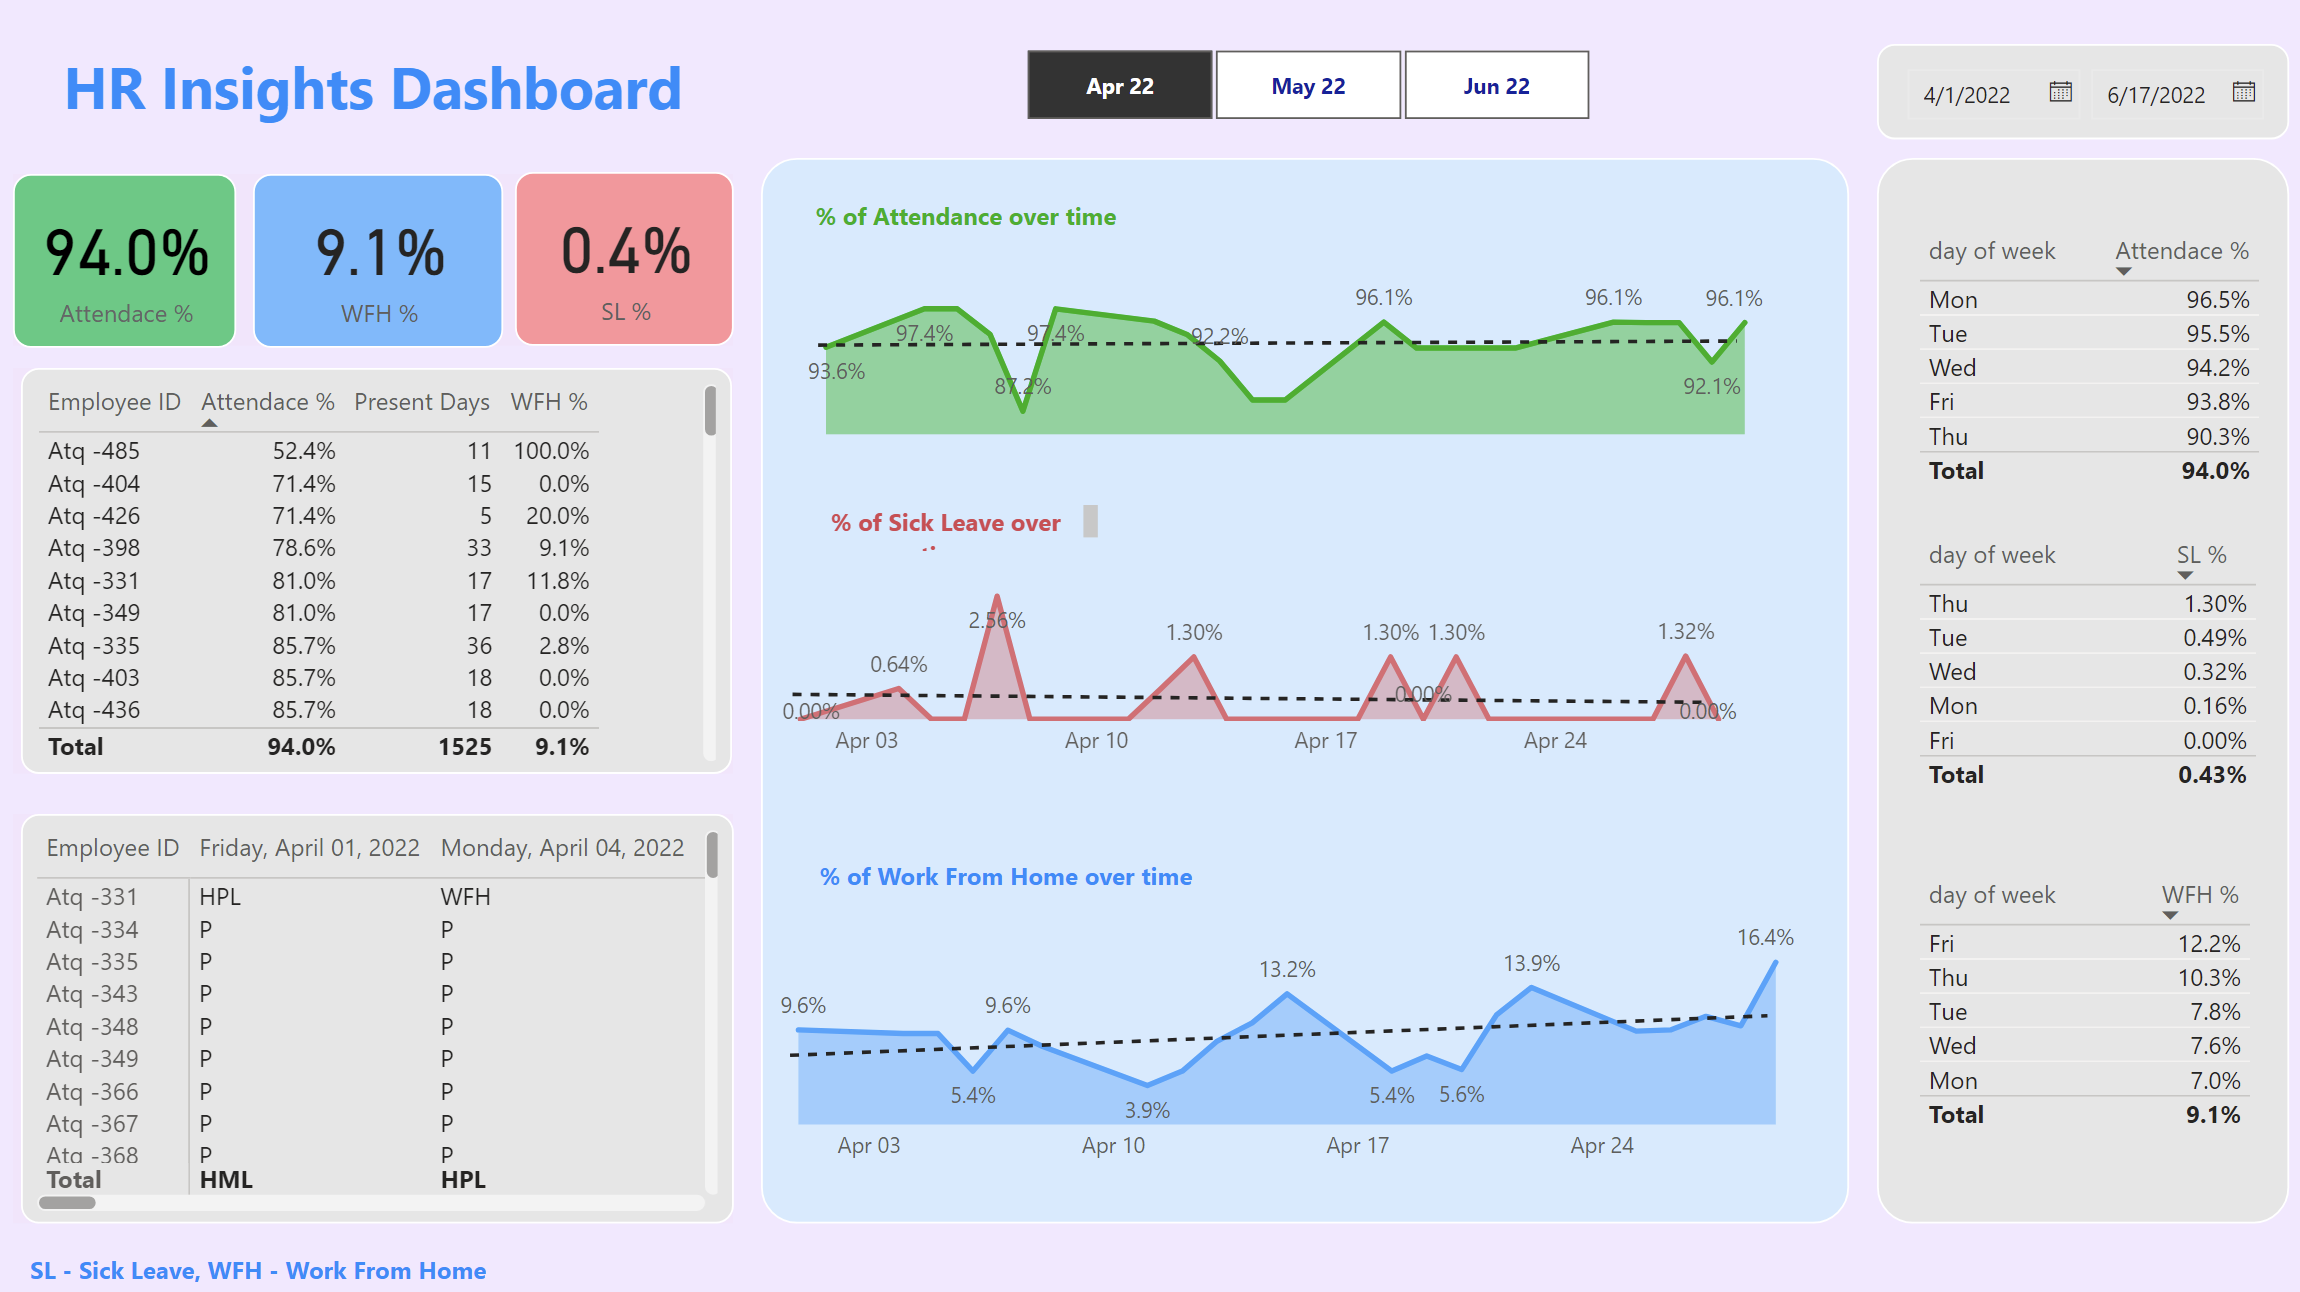

Layout of this report page (visuals, bound fields, positions):
{"tool":"powerbi","page":{"name":"Presence Insights","canvas":[1280,720],"ordinal":0},"visuals":[{"type":"textbox","box":[7.8,205.6,399.9,225.5],"z":0},{"type":"textbox","box":[7.8,453.3,399.8,227.6],"z":1000},{"type":"textbox","box":[423.3,88.9,604.4,592.2],"z":2000},{"type":"textbox","box":[7.8,98,399.9,95.4],"z":3000},{"type":"tableEx","fields":{"Values":["Final Data.Employee ID","Measures (2).Attendace %","Measures (2).Present Days","Measures (2).WFH %"]},"box":[12.6,205.2,394.9,225.7],"z":4000},{"type":"slicer","fields":{"Values":["Final Data.Date"]},"box":[1043,26,229,53],"z":5000},{"type":"slicer","fields":{"Values":["Final Data.MMM YY"]},"box":[545,22,362,52],"z":6000},{"type":"areaChart","fields":{"Category":["Final Data.MMM YY","Final Data.Date"],"Y":["Measures (2).WFH %"]},"box":[420.7,502.3,589,153.5],"z":7000},{"type":"areaChart","fields":{"Category":["Final Data.WeekNo","Final Data.Date"],"Y":["Measures (2).Attendace %"]},"box":[444.1,144.9,540.4,103.2],"z":8000},{"type":"card","fields":{"Values":["Measures (2).Attendace %"]},"box":[7.8,98,124,96.3],"z":9000},{"type":"card","fields":{"Values":["Measures (2).WFH %"]},"box":[141.4,98,138.8,96.3],"z":10000},{"type":"areaChart","fields":{"Category":["Final Data.MMM YY","Final Data.Date"],"Y":["Measures (2).SL %"]},"box":[422.5,307.1,556,124],"z":11000},{"type":"card","fields":{"Values":["Measures (2).SL %"]},"box":[286.3,97.2,121.4,96.3],"z":12000},{"type":"textbox","box":[7.8,22.2,400,55.6],"z":13000},{"type":"textbox","box":[444.4,106.7,185.6,30],"z":14000},{"type":"textbox","box":[444.4,276.7,171.1,35.6],"z":15000},{"type":"textbox","box":[444.4,473.3,230,27.8],"z":16000},{"type":"pivotTable","fields":{"Rows":["Final Data.Employee ID"],"Columns":["Final Data.Date"],"Values":["Min(Final Data.Value)"]},"box":[11.7,453.3,395.9,227.6],"z":17000},{"type":"textbox","box":[12.2,692.2,285.6,27.8],"z":18000},{"type":"textbox","box":[1043,89,229,592],"z":18500},{"type":"tableEx","fields":{"Values":["Final Data.day of week","Measures (2).Attendace %"]},"box":[1061.1,125.6,200,161.1],"z":19000},{"type":"tableEx","fields":{"Values":["Final Data.day of week","Measures (2).SL %"]},"box":[1061.1,294.4,200,166.7],"z":20000},{"type":"tableEx","fields":{"Values":["Final Data.day of week","Measures (2).WFH %"]},"box":[1061.1,483.3,200,167.8],"z":21000}]}

Visuals, with their boxes in screenshot pixels (x1, y1, x2, y2), scaled from the page's 1280x720 canvas onto the 2300x1292 screenshot:
textbox: {"x1": 14, "y1": 369, "x2": 733, "y2": 774}
textbox: {"x1": 14, "y1": 813, "x2": 732, "y2": 1222}
textbox: {"x1": 761, "y1": 160, "x2": 1847, "y2": 1222}
textbox: {"x1": 14, "y1": 176, "x2": 733, "y2": 347}
tableEx - Final Data.Employee ID x Measures (2).Attendace %: {"x1": 23, "y1": 368, "x2": 732, "y2": 773}
slicer - Final Data.Date: {"x1": 1874, "y1": 47, "x2": 2286, "y2": 142}
slicer - Final Data.MMM YY: {"x1": 979, "y1": 39, "x2": 1630, "y2": 133}
areaChart - Final Data.MMM YY x Final Data.Date: {"x1": 756, "y1": 901, "x2": 1814, "y2": 1177}
areaChart - Final Data.WeekNo x Final Data.Date: {"x1": 798, "y1": 260, "x2": 1769, "y2": 445}
card - Measures (2).Attendace %: {"x1": 14, "y1": 176, "x2": 237, "y2": 349}
card - Measures (2).WFH %: {"x1": 254, "y1": 176, "x2": 503, "y2": 349}
areaChart - Final Data.MMM YY x Final Data.Date: {"x1": 759, "y1": 551, "x2": 1758, "y2": 774}
card - Measures (2).SL %: {"x1": 514, "y1": 174, "x2": 733, "y2": 347}
textbox: {"x1": 14, "y1": 40, "x2": 733, "y2": 140}
textbox: {"x1": 799, "y1": 191, "x2": 1132, "y2": 245}
textbox: {"x1": 799, "y1": 497, "x2": 1106, "y2": 560}
textbox: {"x1": 799, "y1": 849, "x2": 1212, "y2": 899}
pivotTable - Final Data.Employee ID x Final Data.Date: {"x1": 21, "y1": 813, "x2": 732, "y2": 1222}
textbox: {"x1": 22, "y1": 1242, "x2": 535, "y2": 1291}
textbox: {"x1": 1874, "y1": 160, "x2": 2286, "y2": 1222}
tableEx - Final Data.day of week x Measures (2).Attendace %: {"x1": 1907, "y1": 225, "x2": 2266, "y2": 514}
tableEx - Final Data.day of week x Measures (2).SL %: {"x1": 1907, "y1": 528, "x2": 2266, "y2": 827}
tableEx - Final Data.day of week x Measures (2).WFH %: {"x1": 1907, "y1": 867, "x2": 2266, "y2": 1168}
